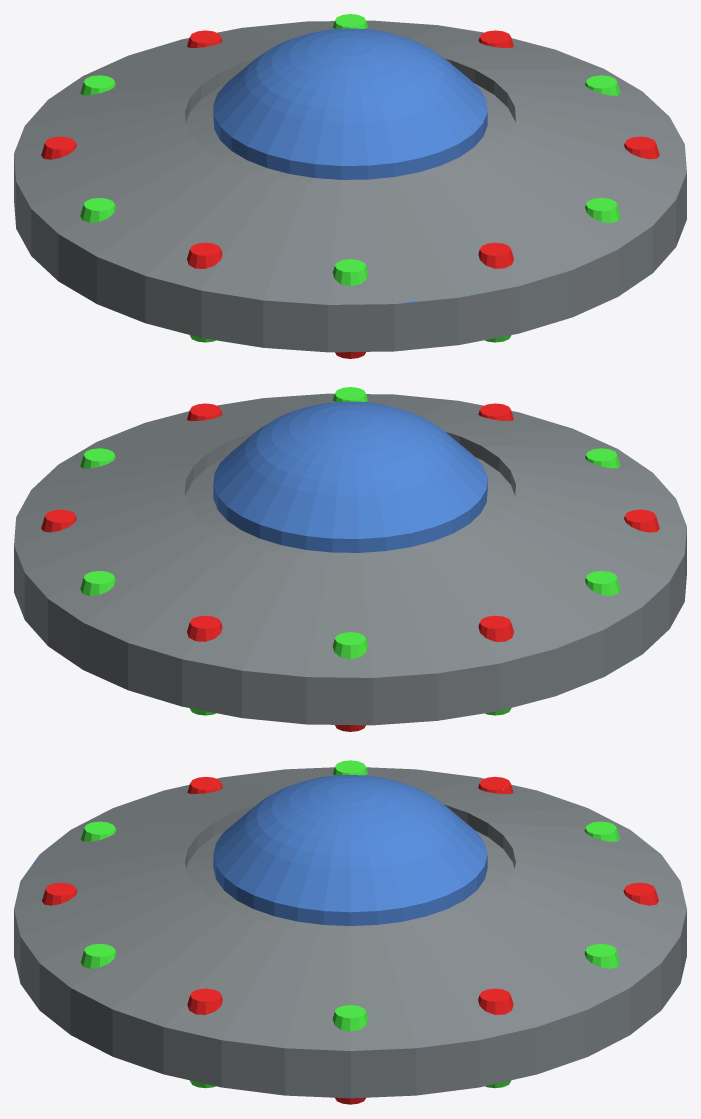
File: Ovni-BNQiWGkC.glb
3 views of the same model, one above another, from view 1: azimuth 30°, elevation 25°; view 2: azimuth 150°, elevation 25°; view 3: azimuth 270°, elevation 25° (orthographic).
Visible parts, largest first — view 1: Circle; view 2: Circle; view 3: Circle.
Part boxes in pixels (box(x1,y1,x2,y2)): Circle: box(14, 14, 686, 358); Circle: box(14, 387, 686, 731); Circle: box(14, 760, 686, 1104).
Size of the model in its own units: 2 by 0.923 by 2.
1 material, 1 textured.
